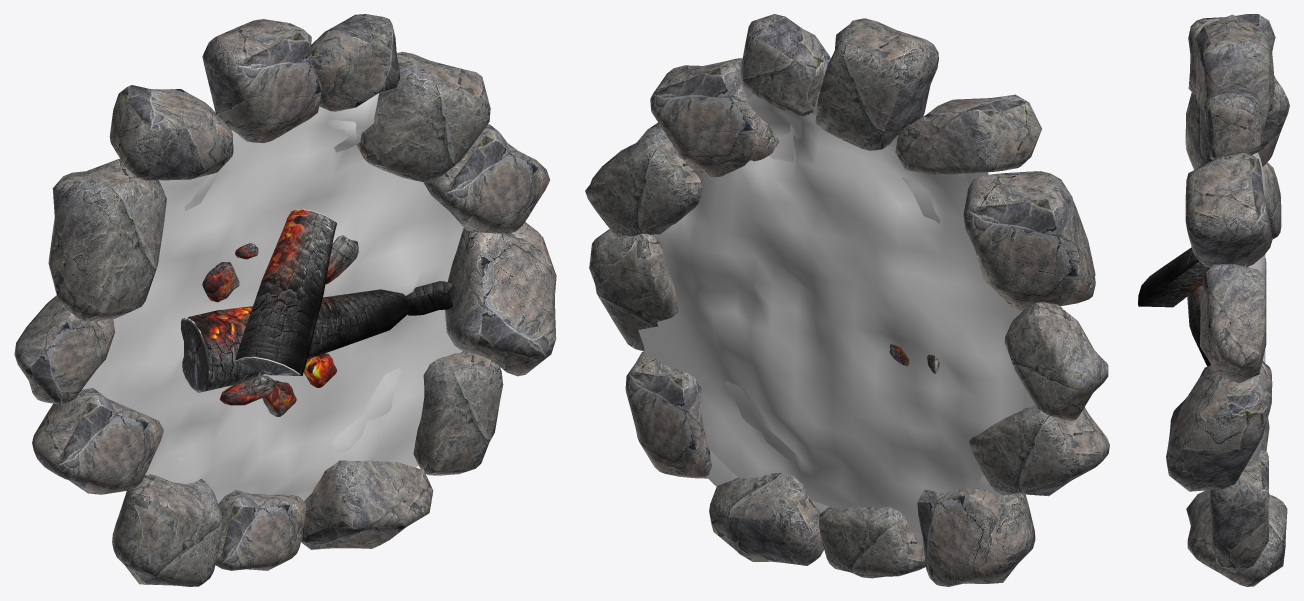
The model's file is campfire.fbx.
3 views of the same model, side by side, from view 1: azimuth 30°, elevation 25°; view 2: azimuth 150°, elevation 25°; view 3: azimuth 270°, elevation 25° (orthographic). The views are drawn at different scales.
Parts seen in each view (by area): view 1: Mesh_2, Mesh_3, Mesh_4, Mesh_5; view 2: Mesh_2, Mesh_3; view 3: Mesh_2, Mesh_4, Mesh_3.
Part boxes in pixels (left/top/right/bottom): Mesh_2: left=14, top=14, right=556, bottom=586; Mesh_3: left=82, top=93, right=463, bottom=503; Mesh_4: left=188, top=209, right=455, bottom=416; Mesh_5: left=180, top=317, right=301, bottom=392; Mesh_2: left=585, top=14, right=1109, bottom=586; Mesh_3: left=638, top=69, right=1034, bottom=551; Mesh_2: left=1166, top=14, right=1289, bottom=586; Mesh_4: left=1138, top=247, right=1210, bottom=366; Mesh_3: left=1245, top=152, right=1265, bottom=459.
Bounding box in the file's own units: 634 × 640 × 175.
